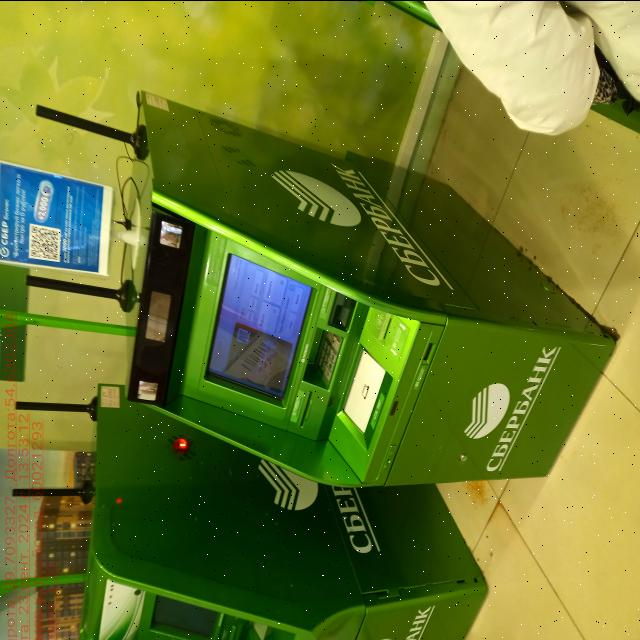bank: (124, 89, 616, 485), (78, 393, 488, 640)
